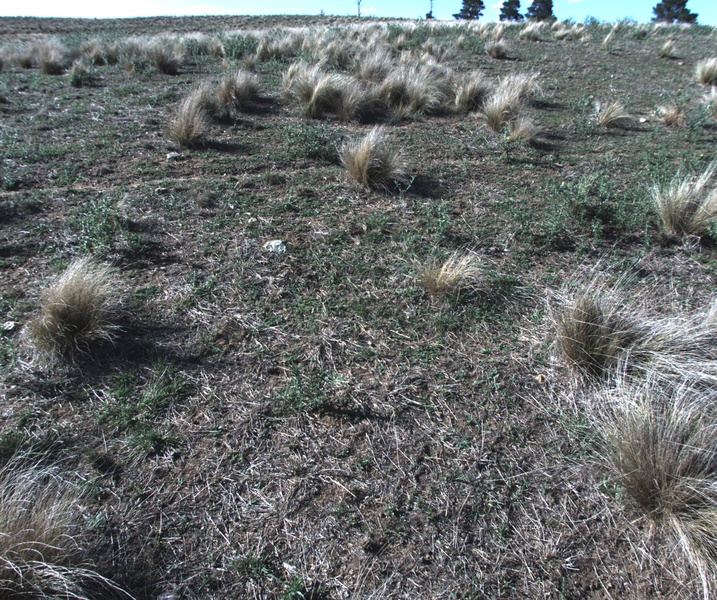st: (600, 383, 717, 562), (22, 262, 142, 373), (1, 470, 84, 596), (549, 287, 645, 381), (650, 171, 717, 242), (338, 129, 406, 196), (421, 256, 487, 308), (162, 89, 210, 146), (381, 70, 433, 121), (307, 75, 364, 119), (445, 73, 494, 119), (500, 73, 539, 109), (585, 95, 629, 125), (146, 45, 188, 76), (204, 82, 235, 122), (278, 59, 314, 93), (230, 67, 263, 101), (482, 91, 510, 125), (70, 58, 98, 92), (506, 118, 542, 143), (39, 47, 68, 75), (482, 38, 510, 63), (518, 23, 542, 43), (700, 56, 717, 84), (659, 43, 681, 59), (556, 25, 571, 41)
